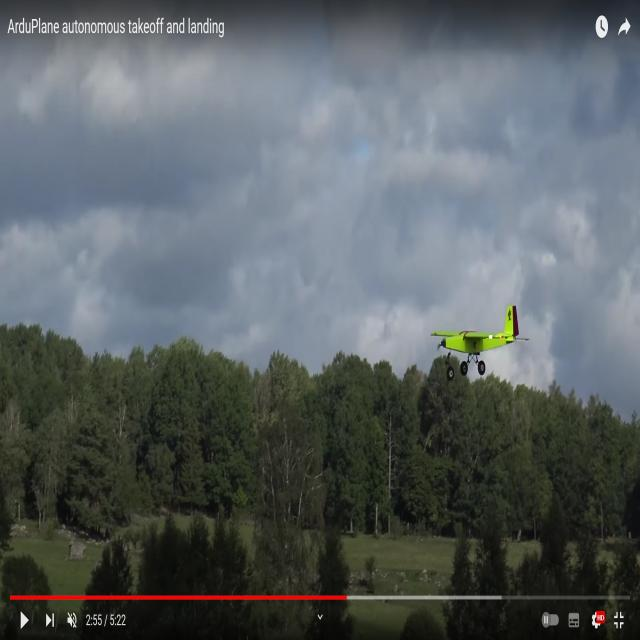iha: (462, 335, 496, 347)
